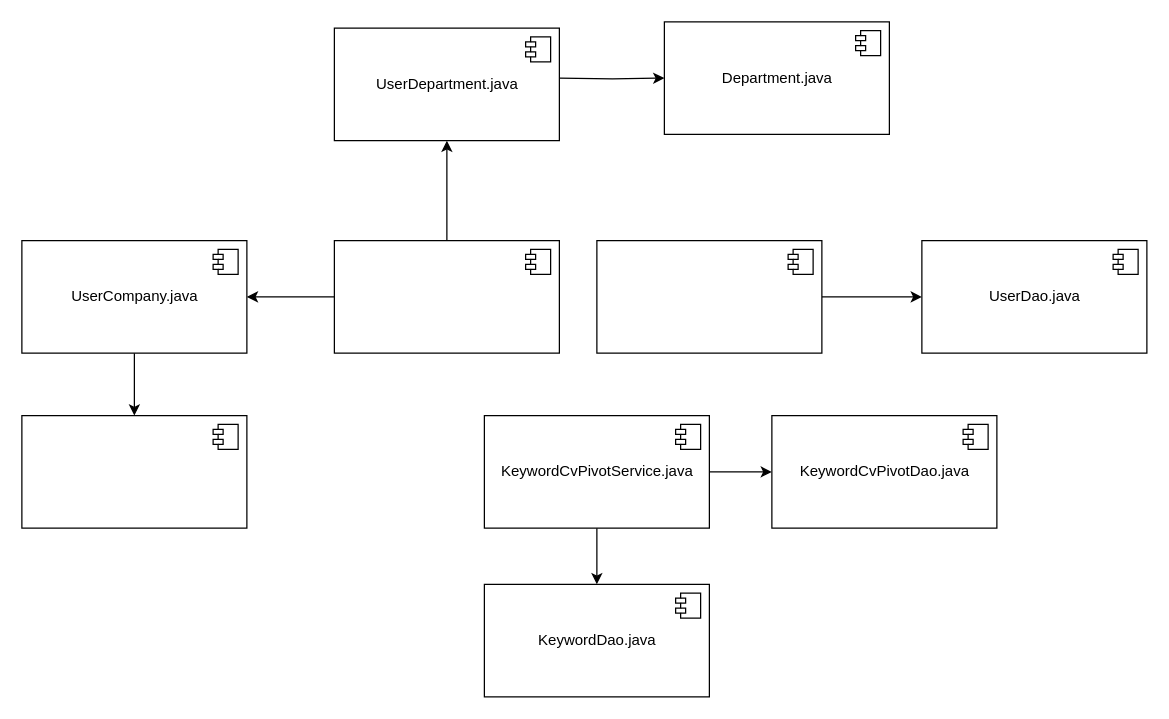
Image size: 1169x719. Some labels were removed from this diagram. The centre of each missing label's shape, as x and y in pixels:
Company.java: [134,471]
LoginService.java: [709,296]
User.java: [446,296]
